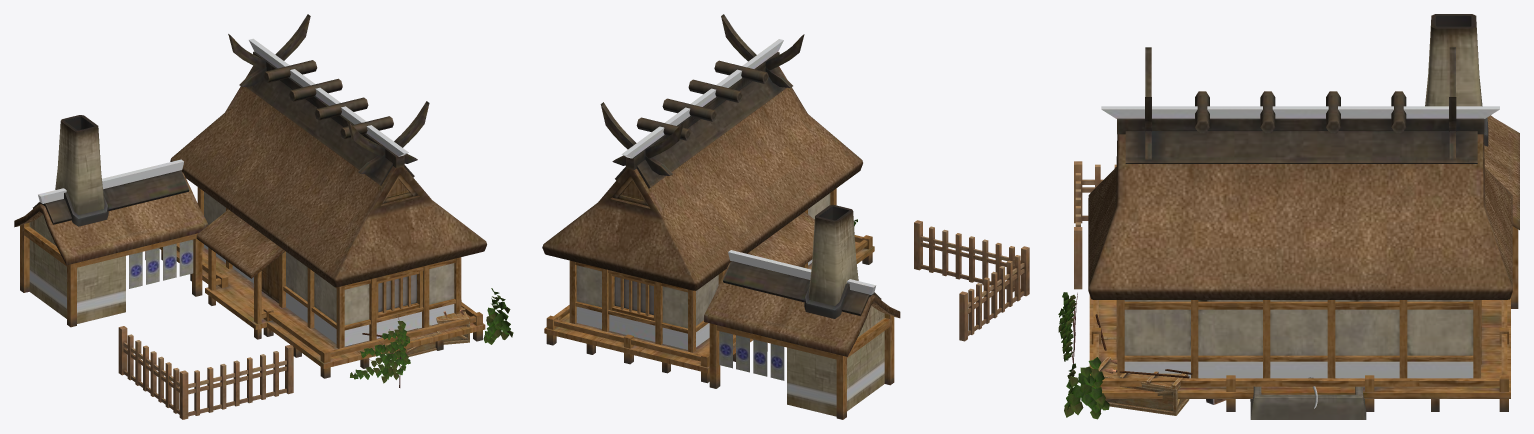
Rendered from 33-armory.glb.
The picture shows the model from 3 angles, left to right: view 1: azimuth 30°, elevation 25°; view 2: azimuth 150°, elevation 25°; view 3: azimuth 270°, elevation 25°; orthographic projection. The views are drawn at different scales.
Size of the model in its own units: 7.98 by 5.6 by 7.31.
15 materials, 14 textured.
